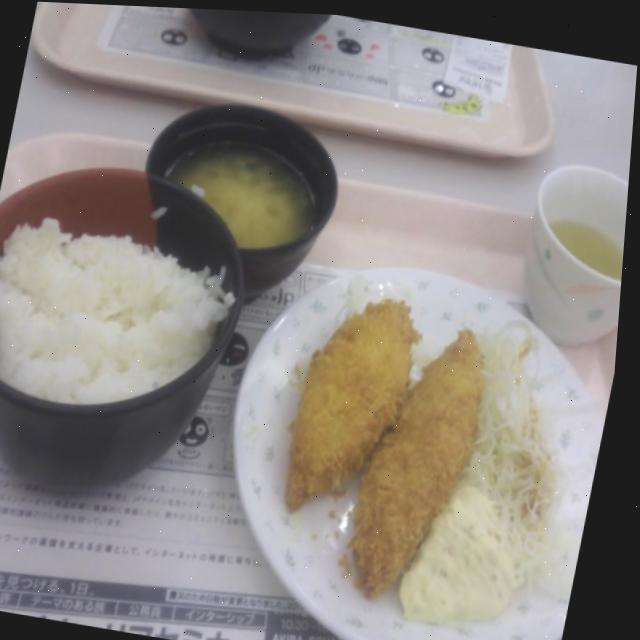炸货点心: (197, 244, 626, 640)
米饭主食: (0, 143, 270, 439)
